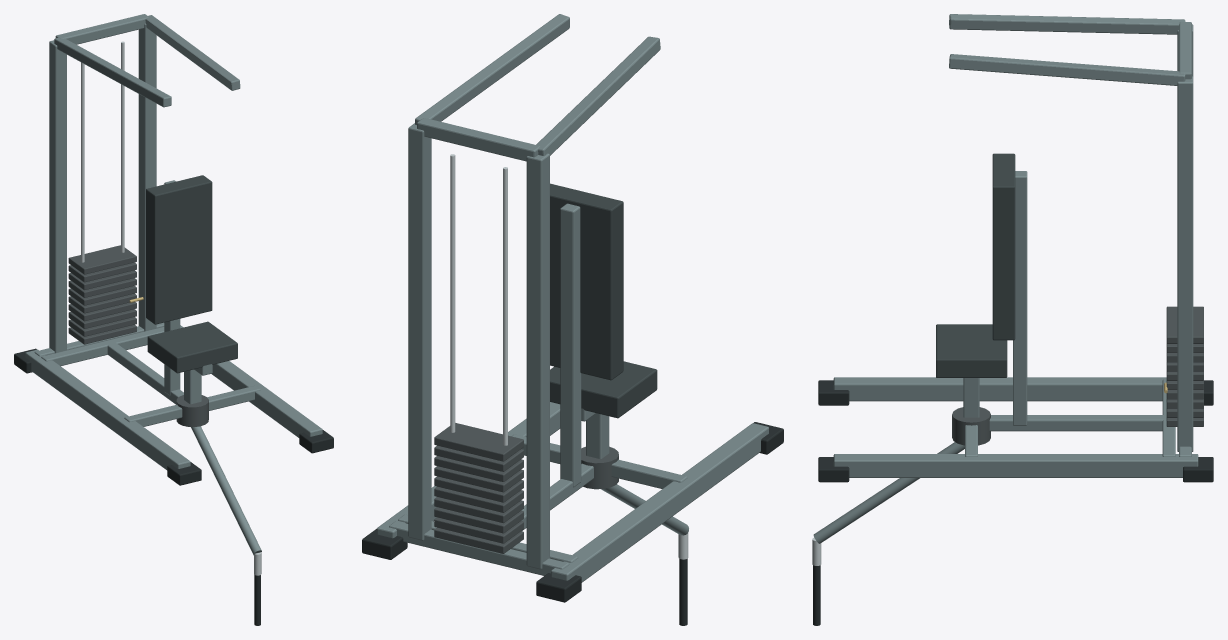
File: pec-deck.v1.glb
3 views of the same model, side by side, from view 1: azimuth 30°, elevation 25°; view 2: azimuth 150°, elevation 25°; view 3: azimuth 270°, elevation 25° (orthographic). The views are drawn at different scales.
Parts seen in each view (by area): view 1: Backrest base tie, Back support, Moving stack plate, Weight guide, Floor shoe, Moving lever, Pivot housing; view 2: Backrest base tie, Back support, Moving stack plate, Weight guide, Floor shoe, Pivot housing, Moving lever, Vertical grip; view 3: Backrest base tie, Back support, Moving stack plate, Floor shoe, Moving lever, Pivot housing.
Boxes of the visible parts, x1,y1,x2,y2 form: Backrest base tie: (25, 14, 322, 470); Back support: (146, 175, 237, 373); Moving stack plate: (68, 245, 136, 344); Weight guide: (81, 41, 124, 262); Floor shoe: (14, 348, 333, 485); Moving lever: (191, 426, 261, 555); Pivot housing: (176, 395, 208, 426); Backrest base tie: (377, 14, 768, 582); Back support: (550, 183, 657, 418); Moving stack plate: (434, 423, 523, 553); Weight guide: (450, 154, 507, 445); Floor shoe: (362, 422, 783, 602); Pivot housing: (581, 446, 618, 489); Moving lever: (601, 484, 688, 535); Vertical grip: (679, 558, 687, 625); Backrest base tie: (833, 14, 1198, 477); Back support: (936, 153, 1015, 377); Moving stack plate: (1166, 306, 1203, 426); Floor shoe: (818, 380, 1213, 482); Moving lever: (813, 442, 964, 543); Pivot housing: (952, 407, 990, 445).
Bounding box in the file's own units: 1.31 × 4.01 × 2.48.
